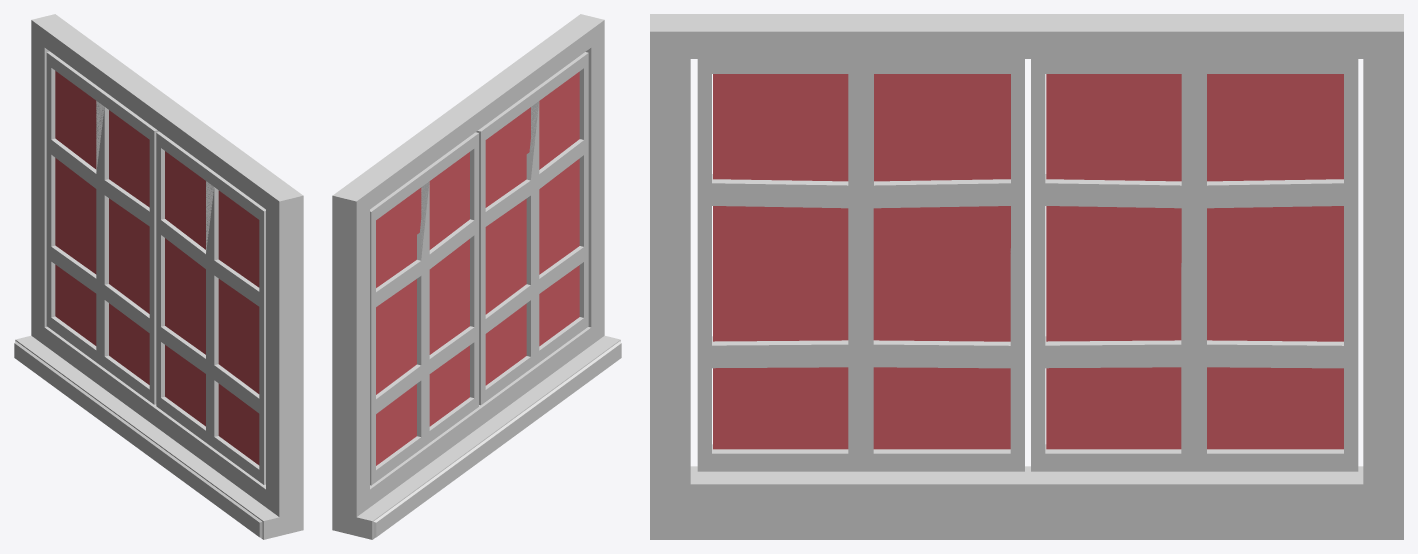
Rendered from fenetre.fbx.
3 views of the same model, side by side, from view 1: azimuth 30°, elevation 25°; view 2: azimuth 150°, elevation 25°; view 3: azimuth 270°, elevation 25° (orthographic). The views are drawn at different scales.
Visible parts, largest first — view 1: Cube.012; view 2: Cube.012; view 3: Cube.012.
Part boxes in pixels (x1,y1,x2,y2): Cube.012: (14,14,303,539); Cube.012: (332,14,621,539); Cube.012: (650,14,1403,539).
Bounding box in the file's own units: 92.54 × 698 × 939.
